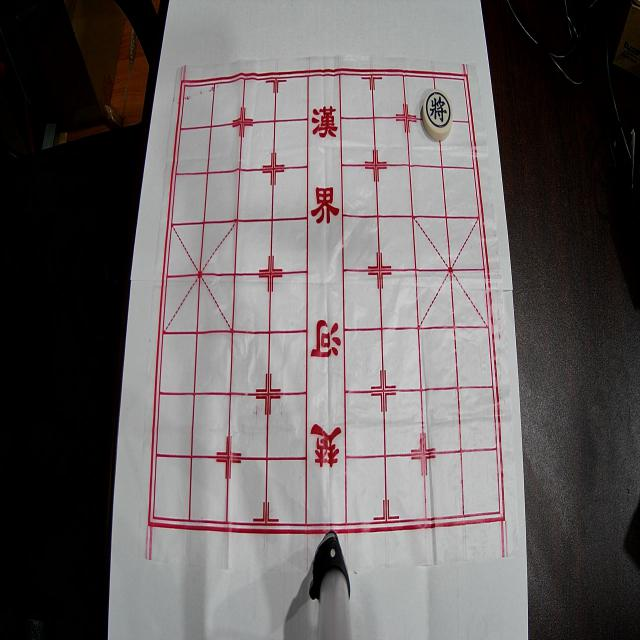black-general: (423, 90, 453, 140)
